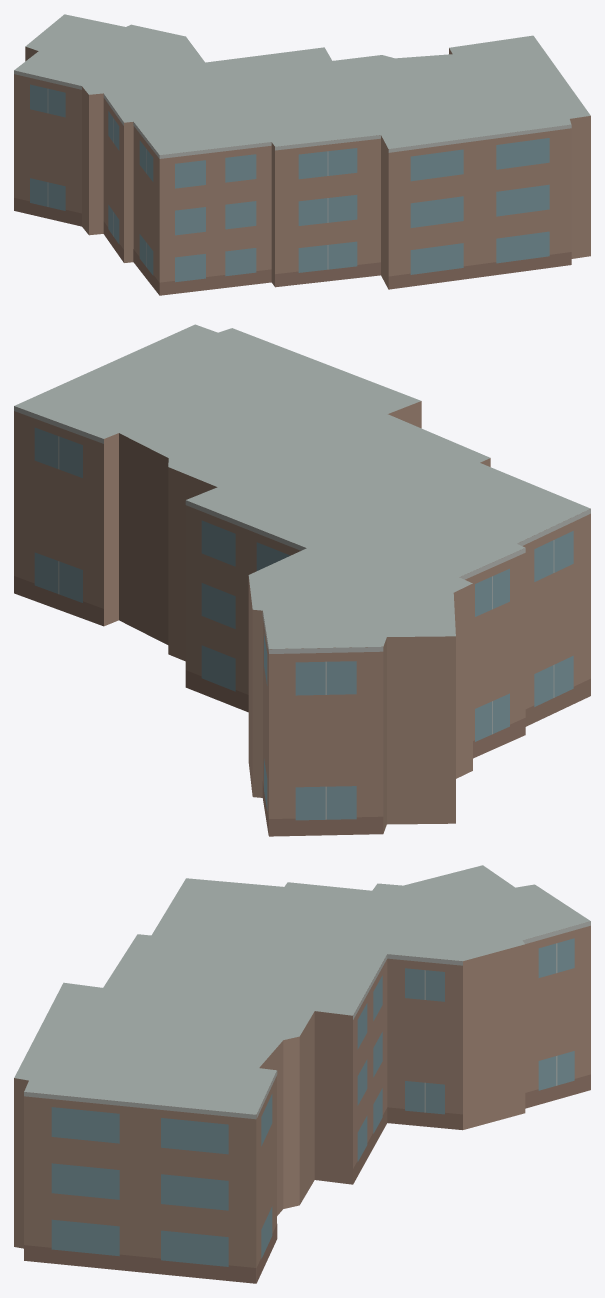
File: survey-upis-32675316.glb
3 renders of one model, top to bottom at view 1: azimuth 30°, elevation 25°; view 2: azimuth 150°, elevation 25°; view 3: azimuth 270°, elevation 25°, orthographic. The views are drawn at different scales.
Parts seen in each view (by area): view 1: survey-upis-32675316.tmp; view 2: survey-upis-32675316.tmp; view 3: survey-upis-32675316.tmp.
Part boxes in pixels (<box>): survey-upis-32675316.tmp: <box>14,14,590,295</box>; survey-upis-32675316.tmp: <box>14,324,590,836</box>; survey-upis-32675316.tmp: <box>14,865,590,1283</box>.
Size of the model in its own units: 29.01 by 9.15 by 28.32.
